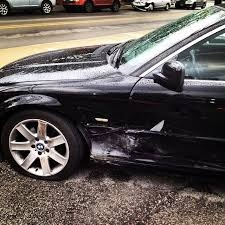Dent: (84, 125, 169, 162)
Scratch: (89, 132, 137, 157)
